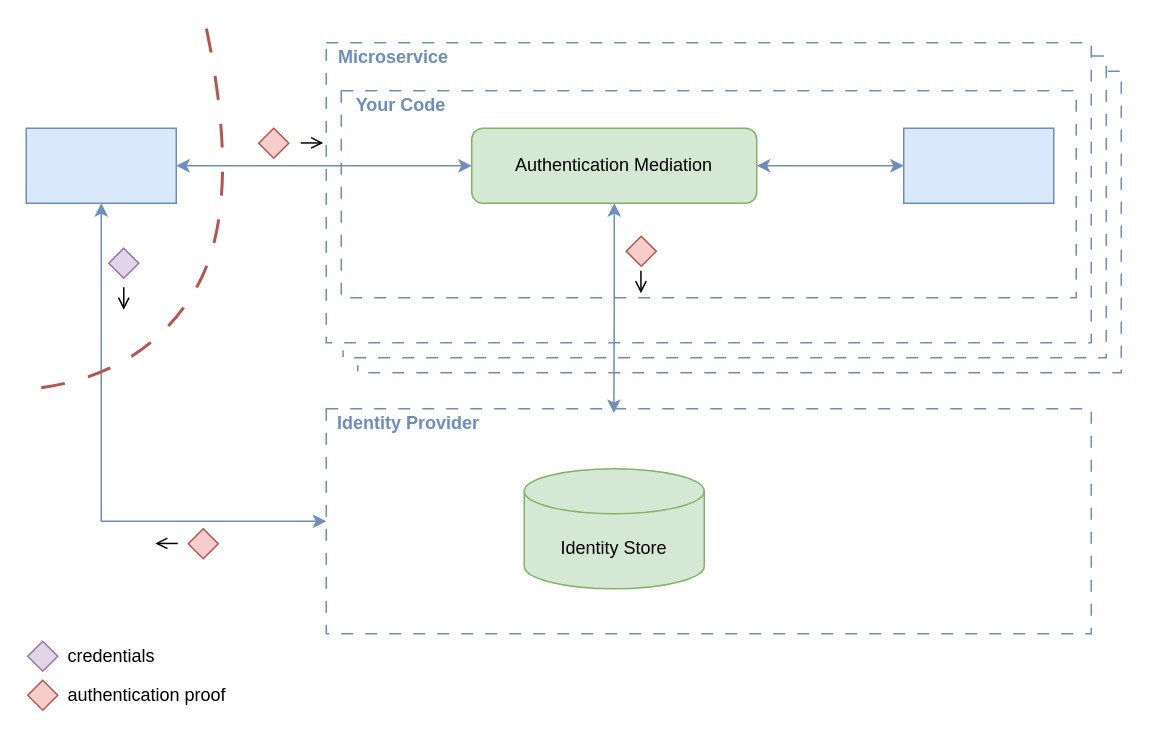
Image size: 1149x737. Some labels were removed from this diagram. The box of each missing label's shape, as (x1, y1, x2, y2) in pixels:
Some Client «Subject»: (25, 127, 176, 203)
Some Entity «Object»: (902, 127, 1054, 203)
